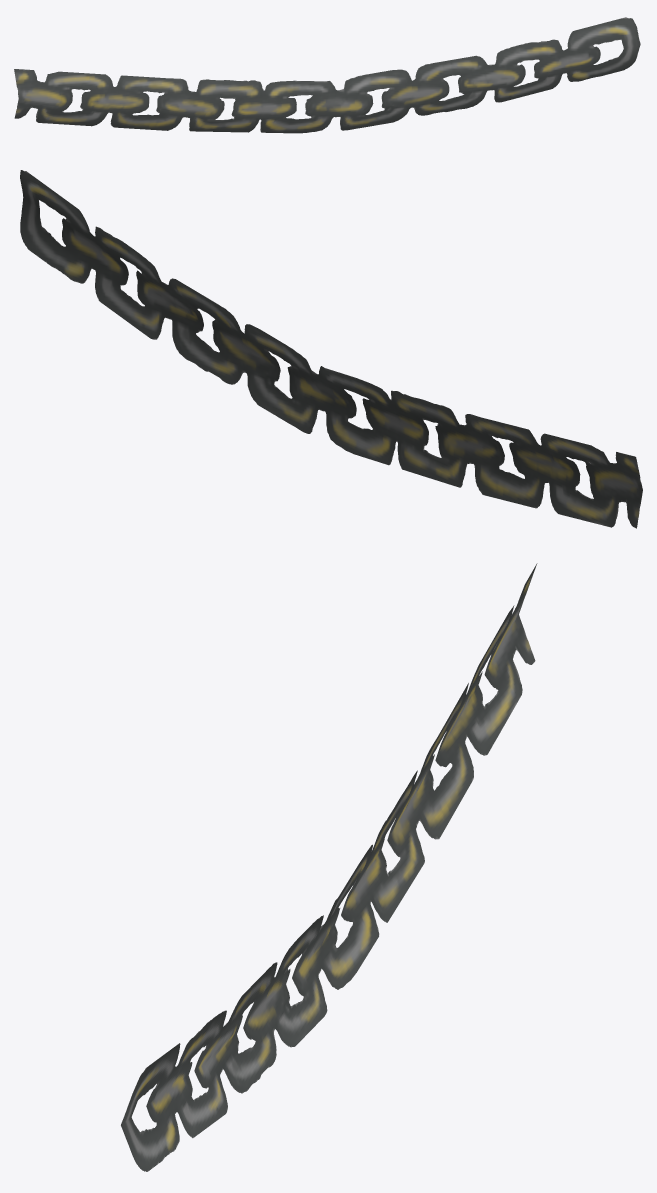
Rendered from Chain.fbx.
The picture shows the model from 3 angles, top to bottom: view 1: azimuth 30°, elevation 25°; view 2: azimuth 150°, elevation 25°; view 3: azimuth 270°, elevation 25°; orthographic projection. The views are drawn at different scales.
Parts seen in each view (by area): view 1: chain; view 2: chain; view 3: chain.
Part boxes in pixels (x1,y1,x2,y2): chain: (14, 17, 640, 133); chain: (20, 170, 642, 528); chain: (121, 563, 537, 1171).
Bounding box in the file's own units: 0.744 × 0.1255 × 0.2571.
1 material, 1 textured.
